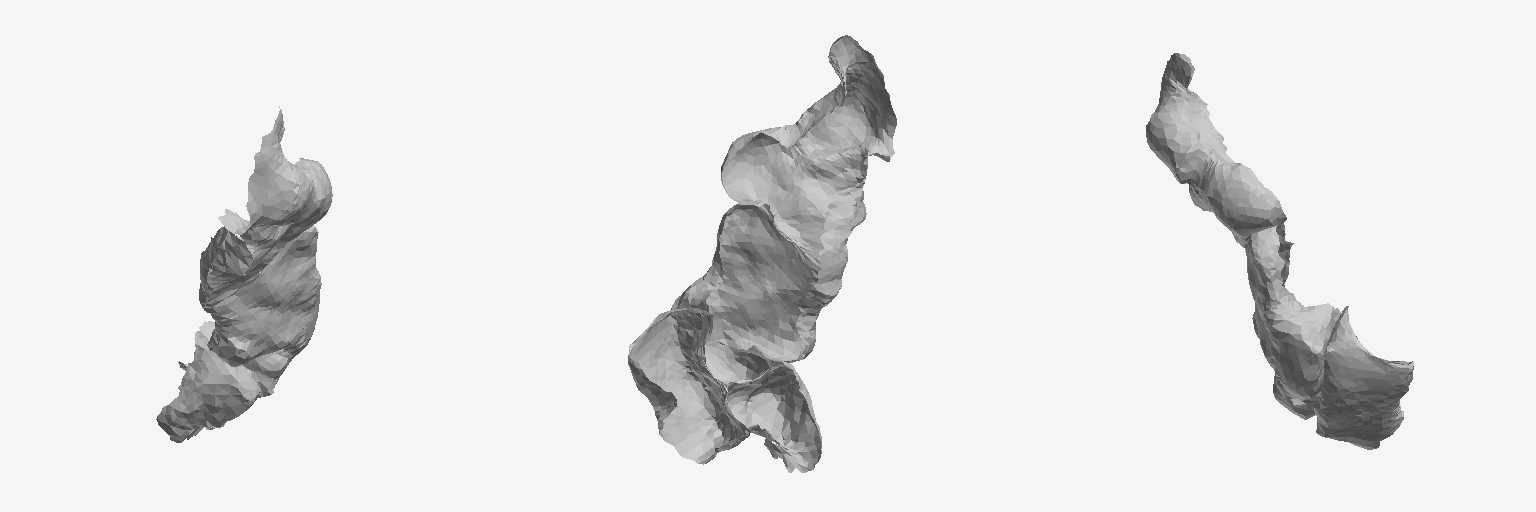
Rendered from L_temporal_inferior.obj.
The picture shows the model from 3 angles: view 1: azimuth 30°, elevation 25°; view 2: azimuth 150°, elevation 25°; view 3: azimuth 270°, elevation 25°; orthographic projection.
Parts seen in each view (by area): view 1: L_temporal_inferior_R_temporal_inferior; view 2: L_temporal_inferior_R_temporal_inferior; view 3: L_temporal_inferior_R_temporal_inferior.
Part boxes in pixels (bbox=[...]): L_temporal_inferior_R_temporal_inferior: bbox=[156, 107, 332, 442]; L_temporal_inferior_R_temporal_inferior: bbox=[628, 35, 896, 472]; L_temporal_inferior_R_temporal_inferior: bbox=[1146, 53, 1413, 449].
Bounding box in the file's own units: 110 × 248 × 159.